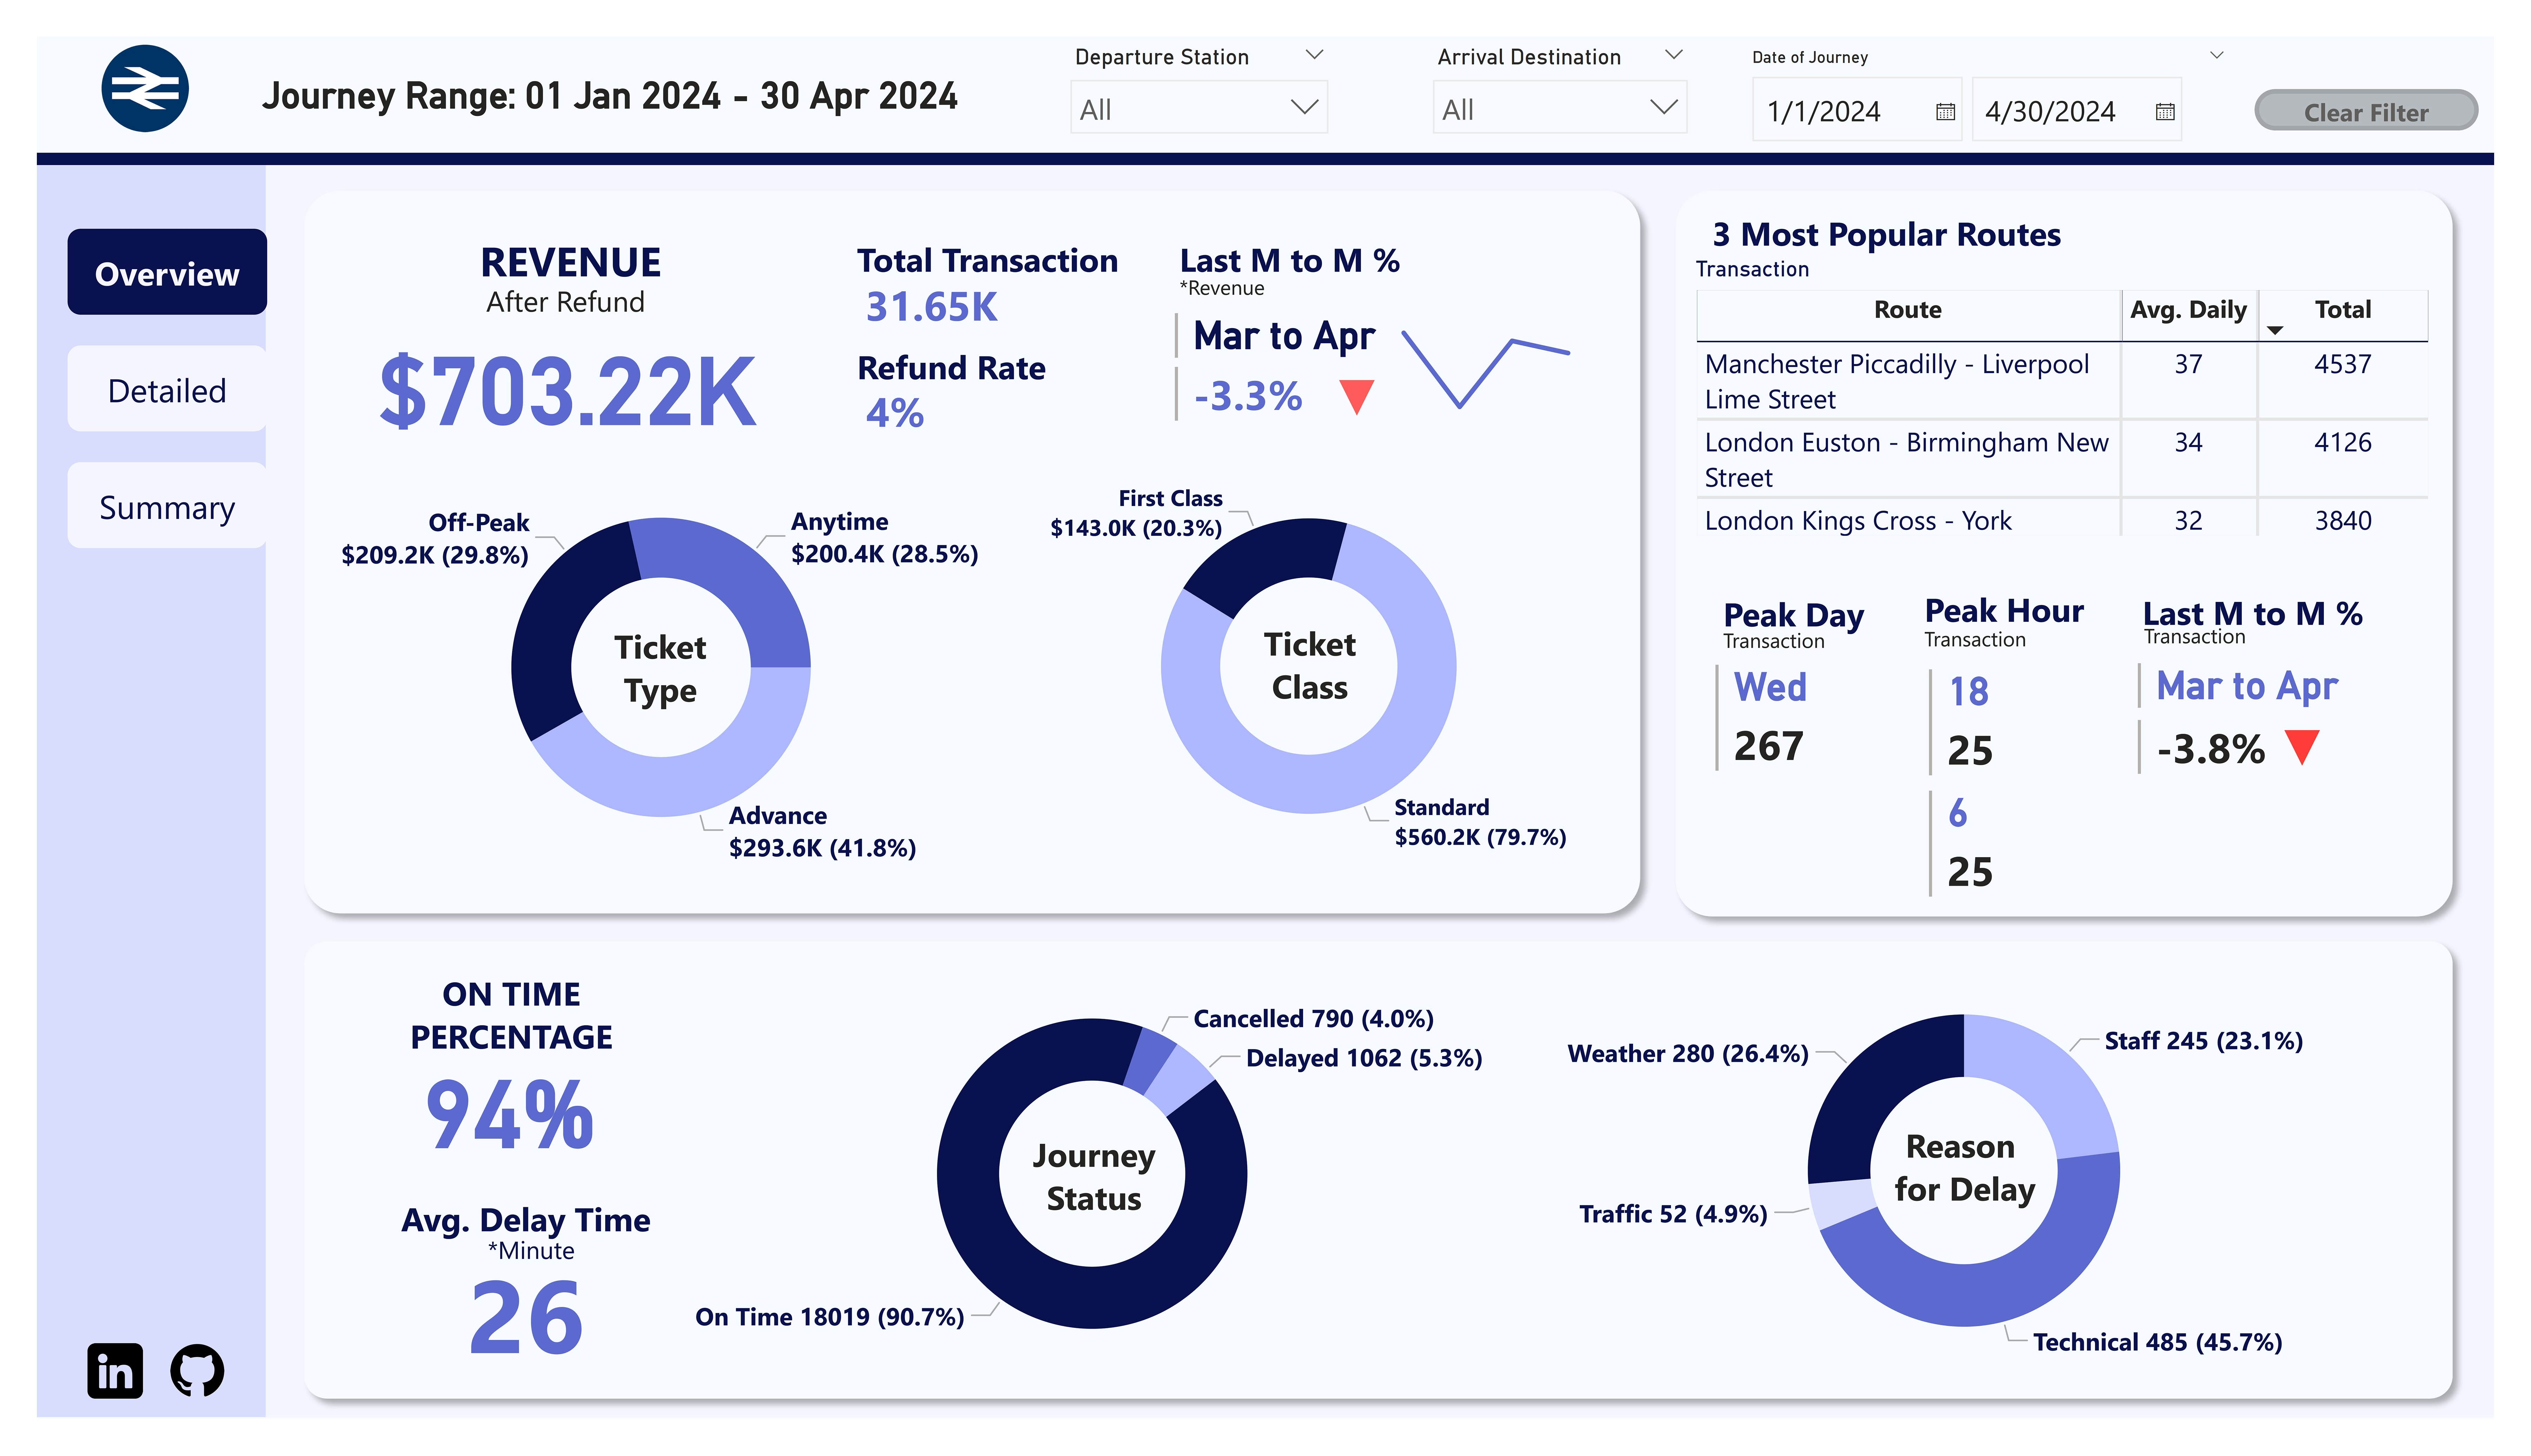

Layout of this report page (visuals, bound fields, positions):
{"tool":"powerbi","page":{"name":"Overview","canvas":[1600,900],"ordinal":0},"visuals":[{"type":"slicer","title":"Departure Slicer","fields":{"Values":["railway.Departure Station"]},"box":[662.7,0,187.6,80.2],"z":0,"group":"g3"},{"type":"shape","title":"00. Shp. Background","box":[0,80.2,1600,819.2],"z":0},{"type":"textbox","box":[529.1,125.3,208.4,49.7],"z":0,"group":"g5"},{"type":"textbox","box":[739.1,125.3,169.9,43.3],"z":0,"group":"g7"},{"type":"tableEx","title":"Transaction","fields":{"Values":["railway.Route","railway.Customer_Route_Daily_Avg","railway.Customer_Total_order"]},"box":[1074.6,142.9,498.6,224.4],"z":0,"group":"g10"},{"type":"card","fields":{"Values":["railway.Total Income"]},"box":[195.2,155.4,300.1,134.7],"z":0,"group":"g13"},{"type":"textbox","box":[529.1,195,169.9,43.3],"z":0,"group":"g6"},{"type":"donutChart","title":"Ticket Type","fields":{"Category":["railway.Ticket Type"],"Y":["railway.Total Income"]},"box":[190.3,275.8,432.9,269.3],"z":0,"group":"g8"},{"type":"donutChart","title":"Ticket Class","fields":{"Category":["railway.Ticket Class"],"Y":["railway.Total Income"]},"box":[623.2,275.8,410.4,267.7],"z":0,"group":"g9"},{"type":"textbox","box":[1224.1,353.3,138.9,46.3],"z":0,"group":"g12"},{"type":"textbox","box":[1366.4,354.9,169.9,43.3],"z":0,"group":"g14"},{"type":"multiRowCard","fields":{"Values":["railway.Last_month"]},"box":[1363.2,403.4,208.8,38.8],"z":0,"group":"g2"},{"type":"multiRowCard","fields":{"Values":["railway.Journey Day","railway.Customer_Avg_Day"]},"box":[1087.8,404.3,155.2,143.6],"z":0,"group":"g11"},{"type":"textbox","title":"TXT ON-TIME Percentage","box":[197.2,602.8,224.4,77],"z":0,"group":"g15"},{"type":"donutChart","title":"Reason for Delay","fields":{"Category":["railway.Reason for Delay NEW"],"Y":["railway.TRIAL A"]},"box":[943.1,603.4,623.6,270.9],"z":0,"group":"g18"},{"type":"group","id":"g1","title":"Group 3","box":[405.2,605.2,563.8,270.7],"z":0,"group":"g17"},{"type":"donutChart","title":"Journey Status","fields":{"Category":["railway.Journey Status"],"Y":["railway.TRIAL A"]},"box":[405.2,605.2,564.3,270.9],"z":0,"group":"g1"},{"type":"textbox","title":"TXT Avh Delay time","box":[207.2,750,222.8,38.5],"z":0,"group":"g16"},{"type":"slicer","title":"Arrival Slicer","fields":{"Values":["railway.Arrival Destination"]},"box":[898.4,0,186,75.4],"z":1000,"group":"g3"},{"type":"shape","title":"00. Shp Side","box":[0,80.2,149.1,819.2],"z":1000},{"type":"textbox","box":[1085.8,107.9,304.6,40.1],"z":1000,"group":"g10"},{"type":"textbox","box":[274.5,122,146.6,51.7],"z":1000,"group":"g13"},{"type":"card","fields":{"Values":["Count(railway.Transaction ID)"]},"box":[529.1,144.5,107.4,62.5],"z":1000,"group":"g5"},{"type":"textbox","box":[739.1,149.3,121.8,33.7],"z":1000,"group":"g7"},{"type":"multiRowCard","fields":{"Values":["railway.refund_percent"]},"box":[540.3,220.7,115.4,54.5],"z":1000,"group":"g6"},{"type":"textbox","box":[1092.6,355.9,121.8,43.3],"z":1000,"group":"g11"},{"type":"textbox","box":[788.3,375.2,81.8,67.3],"z":1000,"group":"g9"},{"type":"textbox","box":[1367,376.1,121.8,33.3],"z":1000,"group":"g14"},{"type":"textbox","box":[365,376.8,81.8,67.3],"z":1000,"group":"g8"},{"type":"textbox","box":[1224.3,378.1,121.8,33.3],"z":1000,"group":"g12"},{"type":"multiRowCard","fields":{"Values":["railway.MoM% Last Transaction"]},"box":[1363.2,440.3,208.4,46.5],"z":1000,"group":"g2"},{"type":"card","fields":{"Values":["railway.OnTimePercentage"]},"box":[203.6,652.5,208.4,81.8],"z":1000,"group":"g15"},{"type":"textbox","box":[1193.2,702.8,125.1,70.5],"z":1000,"group":"g18"},{"type":"textbox","box":[637.7,707.8,102.6,67.3],"z":1000,"group":"g1"},{"type":"card","fields":{"Values":["railway.Average Delay"]},"box":[198.8,783.7,238.9,88.2],"z":1000,"group":"g16"},{"type":"shape","title":"00. Line","box":[0,33.7,1600,91.4],"z":1500},{"type":"image","title":"00. Image Logo","box":[33.7,0,73.7,67.3],"z":1750},{"type":"pageNavigator","title":"00. Page navigator","box":[19.7,125.4,131,210],"z":1875},{"type":"slicer","title":"Date Slicer","fields":{"Values":["railway.Date of Journey"]},"box":[1103.2,1.6,333.5,72.1],"z":2000,"group":"g3"},{"type":"multiRowCard","fields":{"Values":["railway.Last_month"]},"box":[735.9,175.4,208.8,38.8],"z":2000,"group":"g7"},{"type":"textbox","box":[1092.9,378.7,121.8,33.3],"z":2000,"group":"g11"},{"type":"group","id":"g2","title":"Group 2","box":[1363.2,403.4,208.8,83.4],"z":2000,"group":"g14"},{"type":"multiRowCard","fields":{"Values":["railway.Journey Hour TXT","railway.Customer_Avg_Day"]},"box":[1226.6,406.9,150.7,184.4],"z":2000,"group":"g12"},{"type":"textbox","title":"TXT Avh Delay time","box":[210.4,774,222.8,38.5],"z":2000,"group":"g16"},{"type":"image","title":"00. Linkedin","box":[26.8,846.5,47.9,45.1],"z":2000},{"type":"actionButton","title":"Reset Button","box":[1443.5,33.7,145.9,27.3],"z":3000,"group":"g3"},{"type":"multiRowCard","fields":{"Values":["railway.MoM% Last Revenue"]},"box":[735.9,210,209.1,47.5],"z":3000,"group":"g7"},{"type":"card","title":"Arrow","fields":{"Values":["railway.arrow_%Transaction"]},"box":[1427.3,423.8,96.2,75.4],"z":3000,"group":"g14"},{"type":"image","title":"00. Github","box":[81.7,842.3,45.1,52.1],"z":3000},{"type":"group","id":"g3","title":"00. GR. Filter","box":[662.7,0,926.7,80.2],"z":3500},{"type":"card","title":"00. Disp. Journey Range","fields":{"Values":["railway.filtered_date"]},"box":[113.8,3.2,519.4,67.3],"z":3750},{"type":"shape","title":"01. Shp","box":[165.1,91.4,888.2,489],"z":4000},{"type":"lineChart","fields":{"Y":["railway.Total Income"],"Category":["railway.Date of Journey.Variation.Date Hierarchy.Year","railway.Date of Journey.Variation.Date Hierarchy.Month"]},"box":[875.4,177,136.3,72.1],"z":4000,"group":"g7"},{"type":"shape","title":"02. Shp.","box":[1058.1,91.4,524.2,490.6],"z":5000},{"type":"card","fields":{"Values":["railway.arrowup_%Revenue"]},"box":[811.3,196.2,96.2,75.4],"z":5000,"group":"g7"},{"type":"shape","title":"03. Shp","box":[165.1,580.4,1417.2,315.8],"z":6000},{"type":"group","id":"g4","title":"01. Card Revenue","box":[195.2,122,300.1,168.1],"z":9000},{"type":"group","id":"g5","title":"01. Card Total Trans","box":[529.1,125.3,208.4,81.8],"z":10500},{"type":"group","id":"g6","title":"01. Card Refund Rate","box":[529.1,195,169.9,80.2],"z":11250},{"type":"group","id":"g7","title":"01. GR. MtoM% Rev","box":[735.9,125.3,275.8,145.9],"z":11625},{"type":"group","id":"g8","title":"01. Pie Ticket Type","box":[190.3,275.8,432.9,269.3],"z":11812},{"type":"group","id":"g9","title":"01. Pie Ticket Class","box":[623.2,275.8,410.4,267.7],"z":11906},{"type":"group","id":"g10","title":"02. Tb. 3 Most Popular Routes","box":[1074.6,107.9,498.6,259.4],"z":12000},{"type":"group","id":"g11","title":"02. Card Peak Day","box":[1087.8,355.9,155.2,192.1],"z":13000},{"type":"group","id":"g12","title":"02.. Card Peak Hour","box":[1224.1,353.3,153.2,237.9],"z":14000},{"type":"group","id":"g13","title":"GR. Revenue","box":[195.2,122,300.1,168.1],"z":15000,"group":"g4"},{"type":"group","id":"g14","title":"02. Card MtoM% Transa","box":[1363.2,354.9,208.8,144.3],"z":16000},{"type":"group","id":"g15","title":"03. Card On-Time Percent","box":[197.2,602.8,224.4,131.5],"z":18000},{"type":"group","id":"g16","title":"03. Card Avg Delay Time","box":[198.8,750,238.9,121.8],"z":19000},{"type":"group","id":"g17","title":"03. Pie Journey Status","box":[405.2,605.2,563.8,270.7],"z":21000},{"type":"textbox","box":[272,153.6,144.8,43.1],"z":21003,"group":"g4"},{"type":"group","id":"g18","title":"03. Pie Reason Delay","box":[943.1,603.4,624.1,270.7],"z":23000}]}

Visuals, with their boxes in screenshot pixels (x1, y1, x2, y2), scaled from the page's 1600x900 canvas onto the 2531x1456 screenshot:
"Departure Slicer" slicer: <bbox>1048, 0, 1345, 130</bbox>
"00. Shp. Background" shape: <bbox>0, 130, 2531, 1455</bbox>
textbox: <bbox>837, 203, 1167, 283</bbox>
textbox: <bbox>1169, 203, 1438, 273</bbox>
"Transaction" tableEx: <bbox>1700, 231, 2489, 594</bbox>
card - railway.Total Income: <bbox>309, 251, 784, 469</bbox>
textbox: <bbox>837, 315, 1106, 386</bbox>
"Ticket Type" donutChart: <bbox>301, 446, 986, 882</bbox>
"Ticket Class" donutChart: <bbox>986, 446, 1635, 879</bbox>
textbox: <bbox>1936, 572, 2156, 646</bbox>
textbox: <bbox>2161, 574, 2430, 644</bbox>
multiRowCard - railway.Last_month: <bbox>2156, 653, 2487, 716</bbox>
multiRowCard - railway.Journey Day x railway.Customer_Avg_Day: <bbox>1721, 654, 1966, 886</bbox>
"TXT ON-TIME Percentage" textbox: <bbox>312, 975, 667, 1100</bbox>
"Reason for Delay" donutChart: <bbox>1492, 976, 2478, 1415</bbox>
"Group 3" group: <bbox>641, 979, 1533, 1417</bbox>
"Journey Status" donutChart: <bbox>641, 979, 1534, 1417</bbox>
"TXT Avh Delay time" textbox: <bbox>328, 1214, 680, 1276</bbox>
"Arrival Slicer" slicer: <bbox>1421, 0, 1716, 122</bbox>
"00. Shp Side" shape: <bbox>0, 130, 236, 1455</bbox>
textbox: <bbox>1718, 174, 2199, 239</bbox>
textbox: <bbox>434, 197, 666, 281</bbox>
card - Count(railway.Transaction ID): <bbox>837, 234, 1007, 335</bbox>
textbox: <bbox>1169, 241, 1362, 296</bbox>
multiRowCard - railway.refund_percent: <bbox>855, 357, 1037, 445</bbox>
textbox: <bbox>1729, 576, 1921, 646</bbox>
textbox: <bbox>1247, 607, 1376, 716</bbox>
textbox: <bbox>2162, 609, 2355, 662</bbox>
textbox: <bbox>577, 610, 707, 718</bbox>
textbox: <bbox>1937, 612, 2129, 666</bbox>
multiRowCard - railway.MoM% Last Transaction: <bbox>2156, 712, 2486, 787</bbox>
card - railway.OnTimePercentage: <bbox>322, 1056, 652, 1188</bbox>
textbox: <bbox>1888, 1137, 2086, 1251</bbox>
textbox: <bbox>1009, 1145, 1171, 1254</bbox>
card - railway.Average Delay: <bbox>315, 1268, 692, 1410</bbox>
"00. Line" shape: <bbox>0, 54, 2531, 202</bbox>
"00. Image Logo" image: <bbox>53, 0, 170, 109</bbox>
"00. Page navigator" pageNavigator: <bbox>31, 203, 238, 543</bbox>
"Date Slicer" slicer: <bbox>1745, 2, 2273, 119</bbox>
multiRowCard - railway.Last_month: <bbox>1164, 284, 1494, 346</bbox>
textbox: <bbox>1729, 613, 1922, 666</bbox>
"Group 2" group: <bbox>2156, 653, 2487, 787</bbox>
multiRowCard - railway.Journey Hour TXT x railway.Customer_Avg_Day: <bbox>1940, 658, 2179, 957</bbox>
"TXT Avh Delay time" textbox: <bbox>333, 1252, 685, 1315</bbox>
"00. Linkedin" image: <bbox>42, 1369, 118, 1442</bbox>
"Reset Button" actionButton: <bbox>2284, 54, 2514, 99</bbox>
multiRowCard - railway.MoM% Last Revenue: <bbox>1164, 340, 1495, 417</bbox>
"Arrow" card: <bbox>2258, 686, 2410, 807</bbox>
"00. Github" image: <bbox>129, 1363, 200, 1447</bbox>
"00. GR. Filter" group: <bbox>1048, 0, 2514, 130</bbox>
"00. Disp. Journey Range" card: <bbox>180, 5, 1002, 114</bbox>
"01. Shp" shape: <bbox>261, 148, 1666, 939</bbox>
lineChart - railway.Total Income x railway.Date of Journey.Variation.Date Hierarchy.Year: <bbox>1385, 286, 1600, 403</bbox>
"02. Shp." shape: <bbox>1674, 148, 2503, 942</bbox>
card - railway.arrowup_%Revenue: <bbox>1283, 317, 1435, 439</bbox>
"03. Shp" shape: <bbox>261, 939, 2503, 1450</bbox>
"01. Card Revenue" group: <bbox>309, 197, 784, 469</bbox>
"01. Card Total Trans" group: <bbox>837, 203, 1167, 335</bbox>
"01. Card Refund Rate" group: <bbox>837, 315, 1106, 445</bbox>
"01. GR. MtoM% Rev" group: <bbox>1164, 203, 1600, 439</bbox>
"01. Pie Ticket Type" group: <bbox>301, 446, 986, 882</bbox>
"01. Pie Ticket Class" group: <bbox>986, 446, 1635, 879</bbox>
"02. Tb. 3 Most Popular Routes" group: <bbox>1700, 174, 2489, 594</bbox>
"02. Card Peak Day" group: <bbox>1721, 576, 1966, 886</bbox>
"02.. Card Peak Hour" group: <bbox>1936, 572, 2179, 956</bbox>
"GR. Revenue" group: <bbox>309, 197, 784, 469</bbox>
"02. Card MtoM% Transa" group: <bbox>2156, 574, 2487, 807</bbox>
"03. Card On-Time Percent" group: <bbox>312, 975, 667, 1188</bbox>
"03. Card Avg Delay Time" group: <bbox>315, 1214, 692, 1410</bbox>
"03. Pie Journey Status" group: <bbox>641, 979, 1533, 1417</bbox>
textbox: <bbox>430, 248, 659, 318</bbox>
"03. Pie Reason Delay" group: <bbox>1492, 976, 2479, 1414</bbox>
